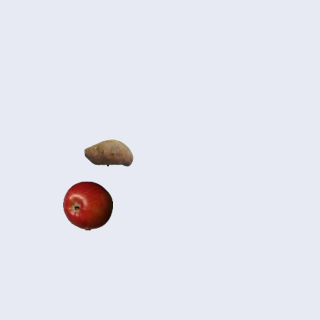Apple Braeburn: (62, 180, 112, 230)
Potato Sweet: (83, 127, 133, 177)
